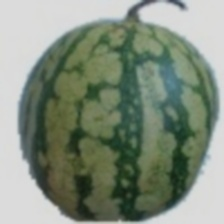watermelon: (20, 42, 213, 224)
